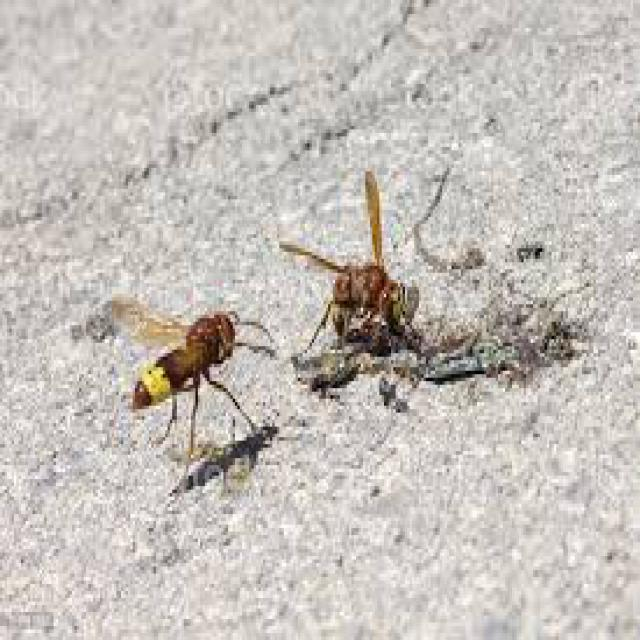Vespa Orientalis: (86, 274, 295, 500), (258, 163, 451, 406)
